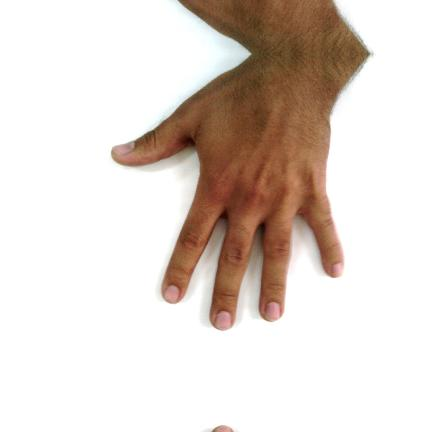Nail: (215, 311, 232, 331), (265, 302, 281, 322), (112, 141, 134, 155), (164, 285, 180, 303), (333, 263, 345, 278), (215, 425, 232, 432)
